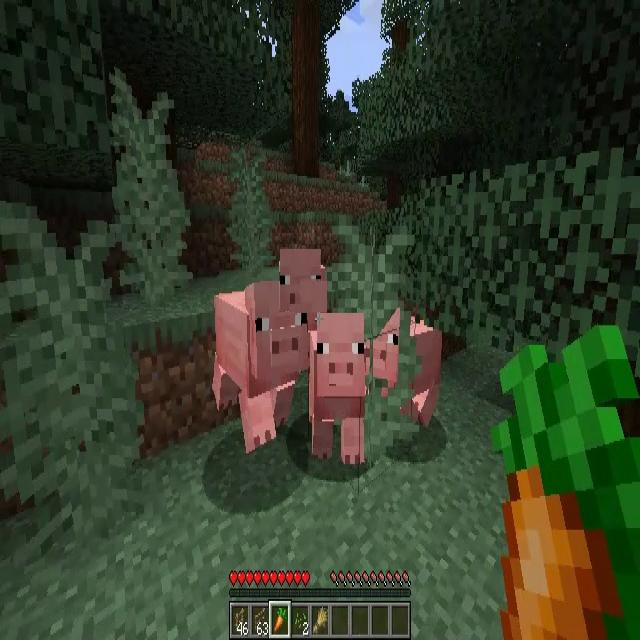pig: (215, 282, 308, 439), (311, 314, 372, 466), (372, 316, 445, 430), (279, 244, 327, 312)
